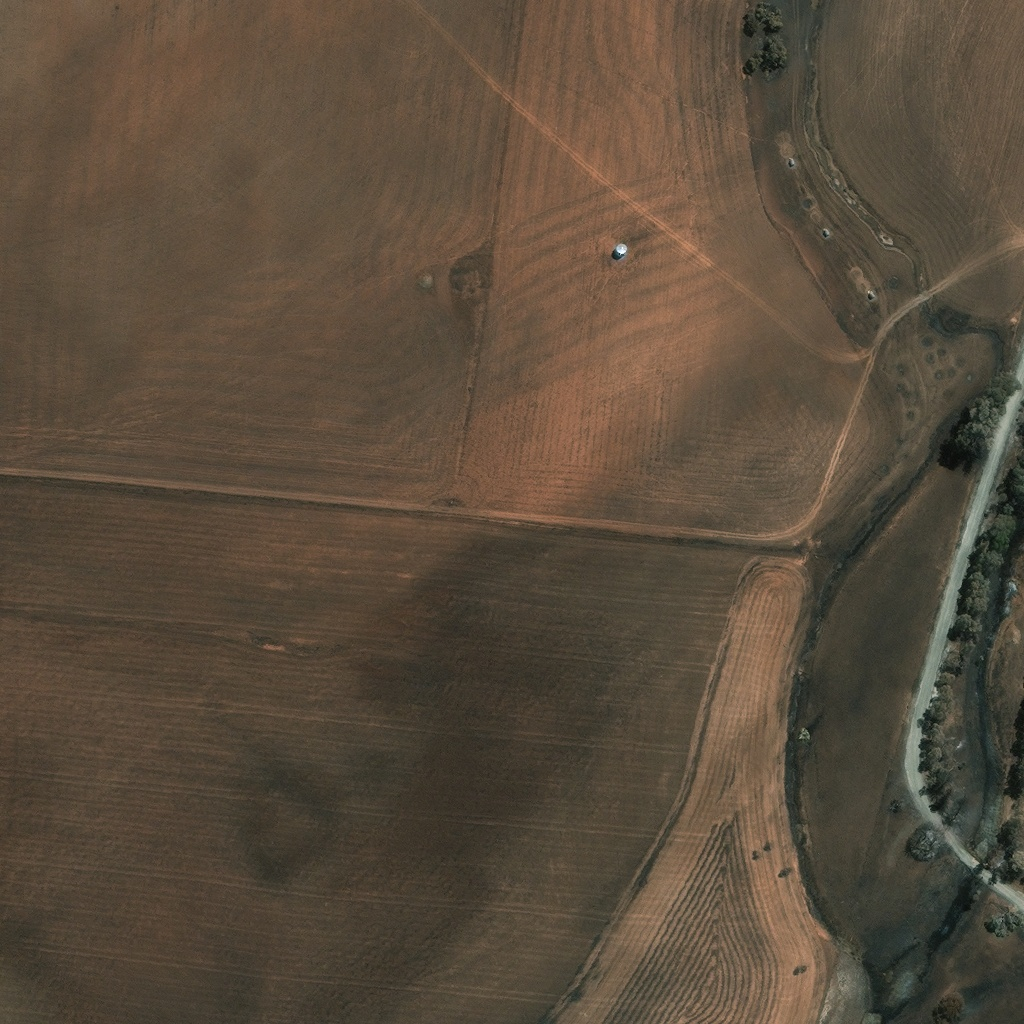0 no-damage: (615, 245, 627, 258)
4 un-classified: (615, 712, 620, 720), (643, 651, 648, 657)
